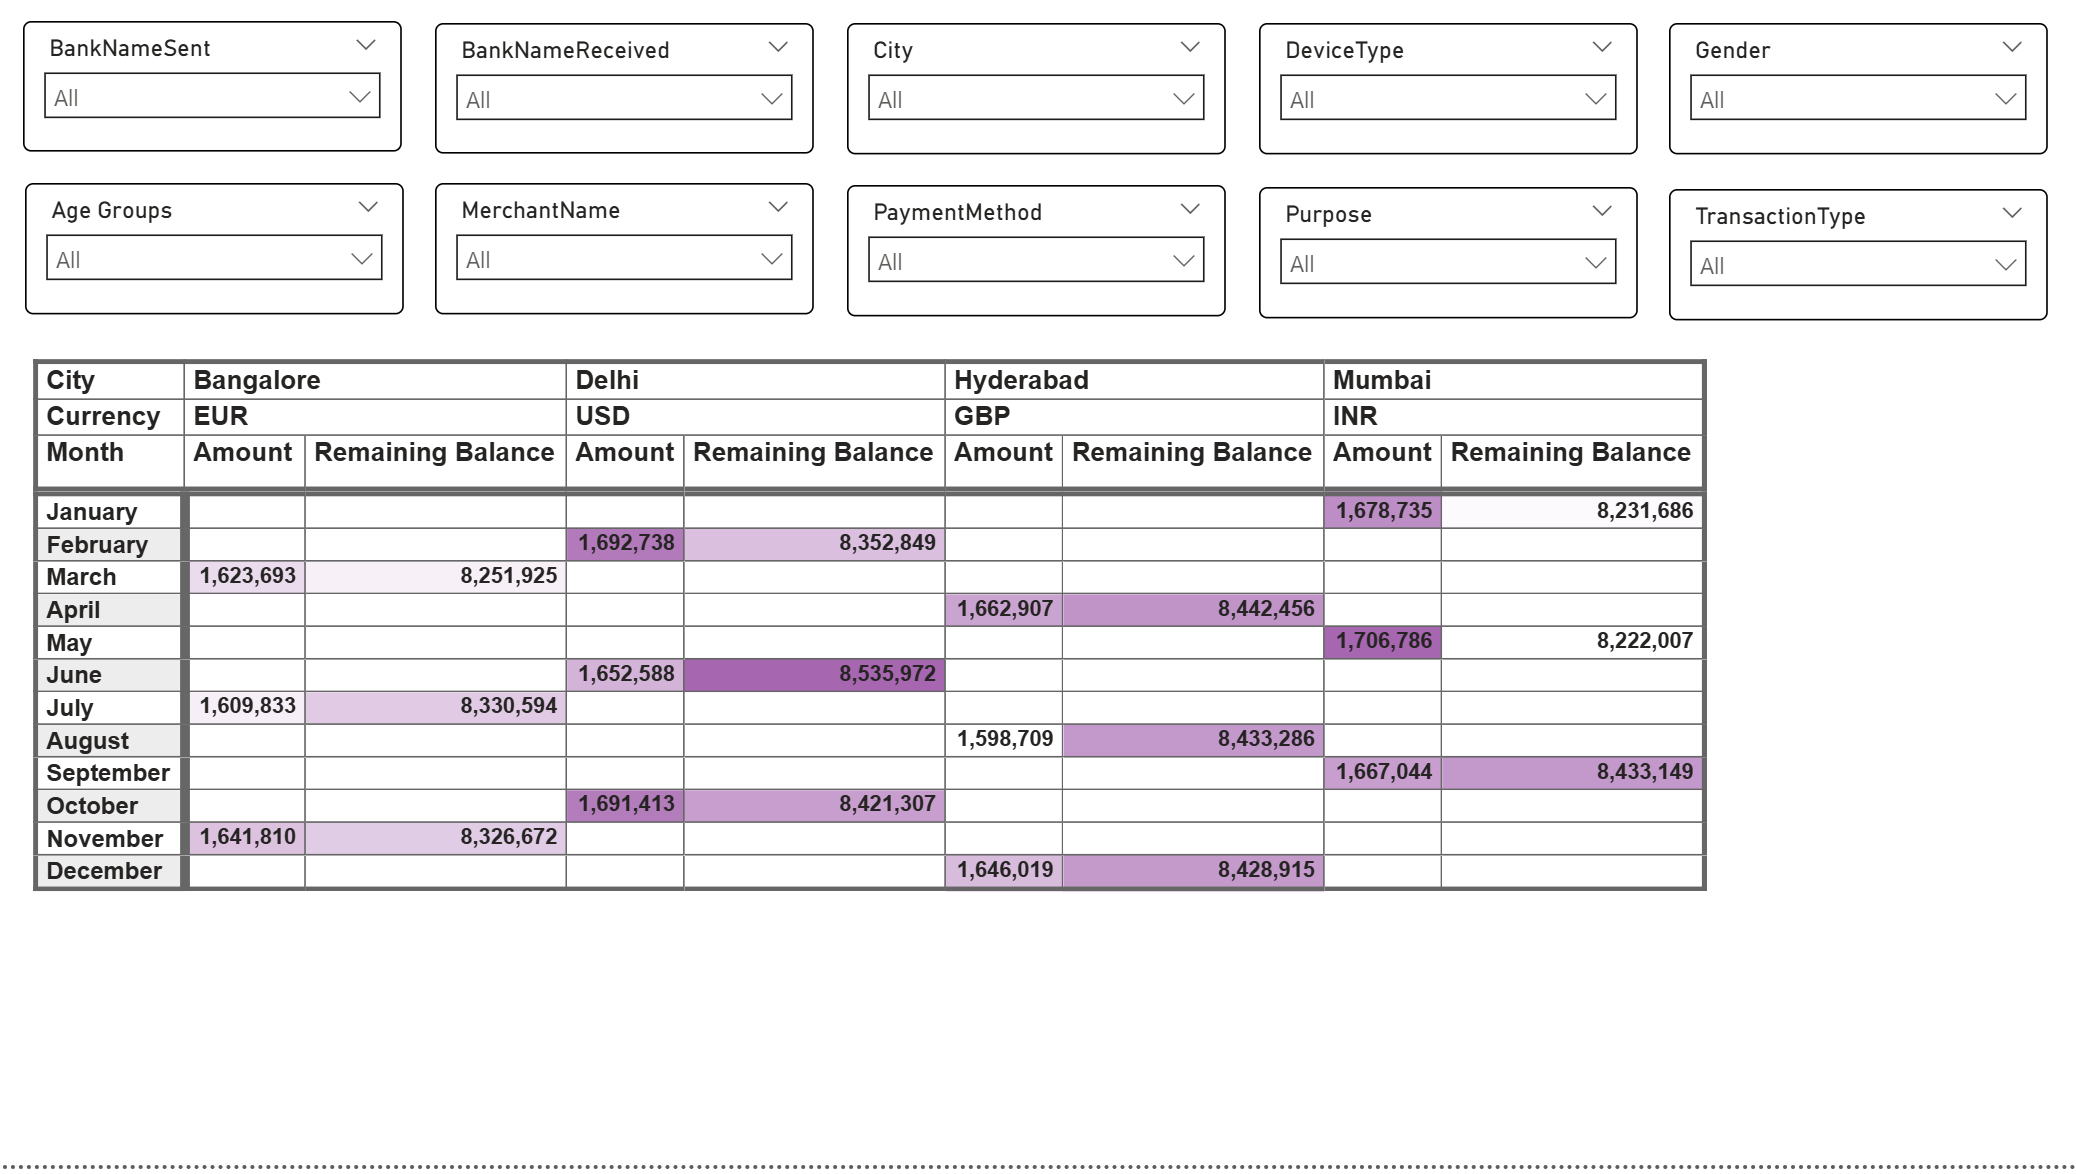

What the dashboard file says about the page in this screenshot:
{"tool":"powerbi","page":{"name":"Matrix Table","canvas":[1280,720],"ordinal":1},"visuals":[{"type":"slicer","fields":{"Values":["UPI Transactions.BankNameSent"]},"box":[20,20,232,80],"z":0},{"type":"slicer","fields":{"Values":["UPI Transactions.BankNameReceived"]},"box":[272,20.4,232,80],"z":1000},{"type":"slicer","fields":{"Values":["UPI Transactions.City"]},"box":[524,20.4,232,80.3],"z":2000},{"type":"slicer","fields":{"Values":["UPI Transactions.DeviceType"]},"box":[776,20.4,232,80.3],"z":3000},{"type":"slicer","fields":{"Values":["UPI Transactions.Gender"]},"box":[1028,20.4,232,80.3],"z":4000},{"type":"slicer","fields":{"Values":["UPI Transactions.Age Groups"]},"box":[20.4,118.6,232,80.3],"z":5000},{"type":"slicer","fields":{"Values":["UPI Transactions.MerchantName"]},"box":[271.6,118.6,232,80.3],"z":6000},{"type":"slicer","fields":{"Values":["UPI Transactions.PaymentMethod"]},"box":[524,119.8,232,80.3],"z":7000},{"type":"slicer","fields":{"Values":["UPI Transactions.Purpose"]},"box":[776.4,121.1,232,80.3],"z":8000},{"type":"slicer","fields":{"Values":["UPI Transactions.TransactionType"]},"box":[1027.6,122.4,232,80.3],"z":9000},{"type":"pivotTable","fields":{"Values":["Sum(UPI Transactions.Amount)","Sum(UPI Transactions.RemainingBalance)"],"Rows":["UPI Transactions.TransactionDate.Variation.Date Hierarchy.Month"],"Columns":["UPI Transactions.City","UPI Transactions.Currency"]},"box":[20.4,221.8,1239.2,483.2],"z":10000}]}

Visuals, with their boxes in screenshot pixels (x1, y1, x2, y2), scaled from the page's 1280x720 canvas onto the 2076x1174 screenshot:
slicer - UPI Transactions.BankNameSent: crop(32, 33, 409, 163)
slicer - UPI Transactions.BankNameReceived: crop(441, 33, 817, 164)
slicer - UPI Transactions.City: crop(850, 33, 1226, 164)
slicer - UPI Transactions.DeviceType: crop(1259, 33, 1635, 164)
slicer - UPI Transactions.Gender: crop(1667, 33, 2044, 164)
slicer - UPI Transactions.Age Groups: crop(33, 193, 409, 324)
slicer - UPI Transactions.MerchantName: crop(441, 193, 817, 324)
slicer - UPI Transactions.PaymentMethod: crop(850, 195, 1226, 326)
slicer - UPI Transactions.Purpose: crop(1259, 197, 1635, 328)
slicer - UPI Transactions.TransactionType: crop(1667, 200, 2043, 331)
pivotTable - Sum(UPI Transactions.Amount) x Sum(UPI Transactions.RemainingBalance): crop(33, 362, 2043, 1150)
